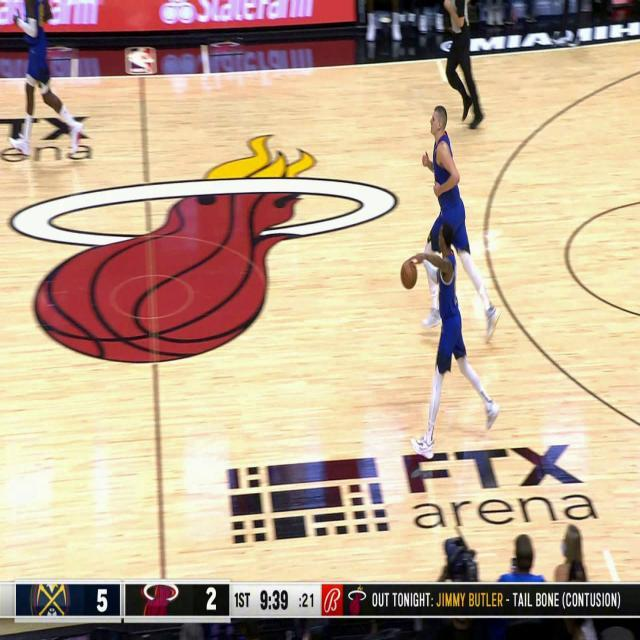rim: (400, 258, 420, 290)
